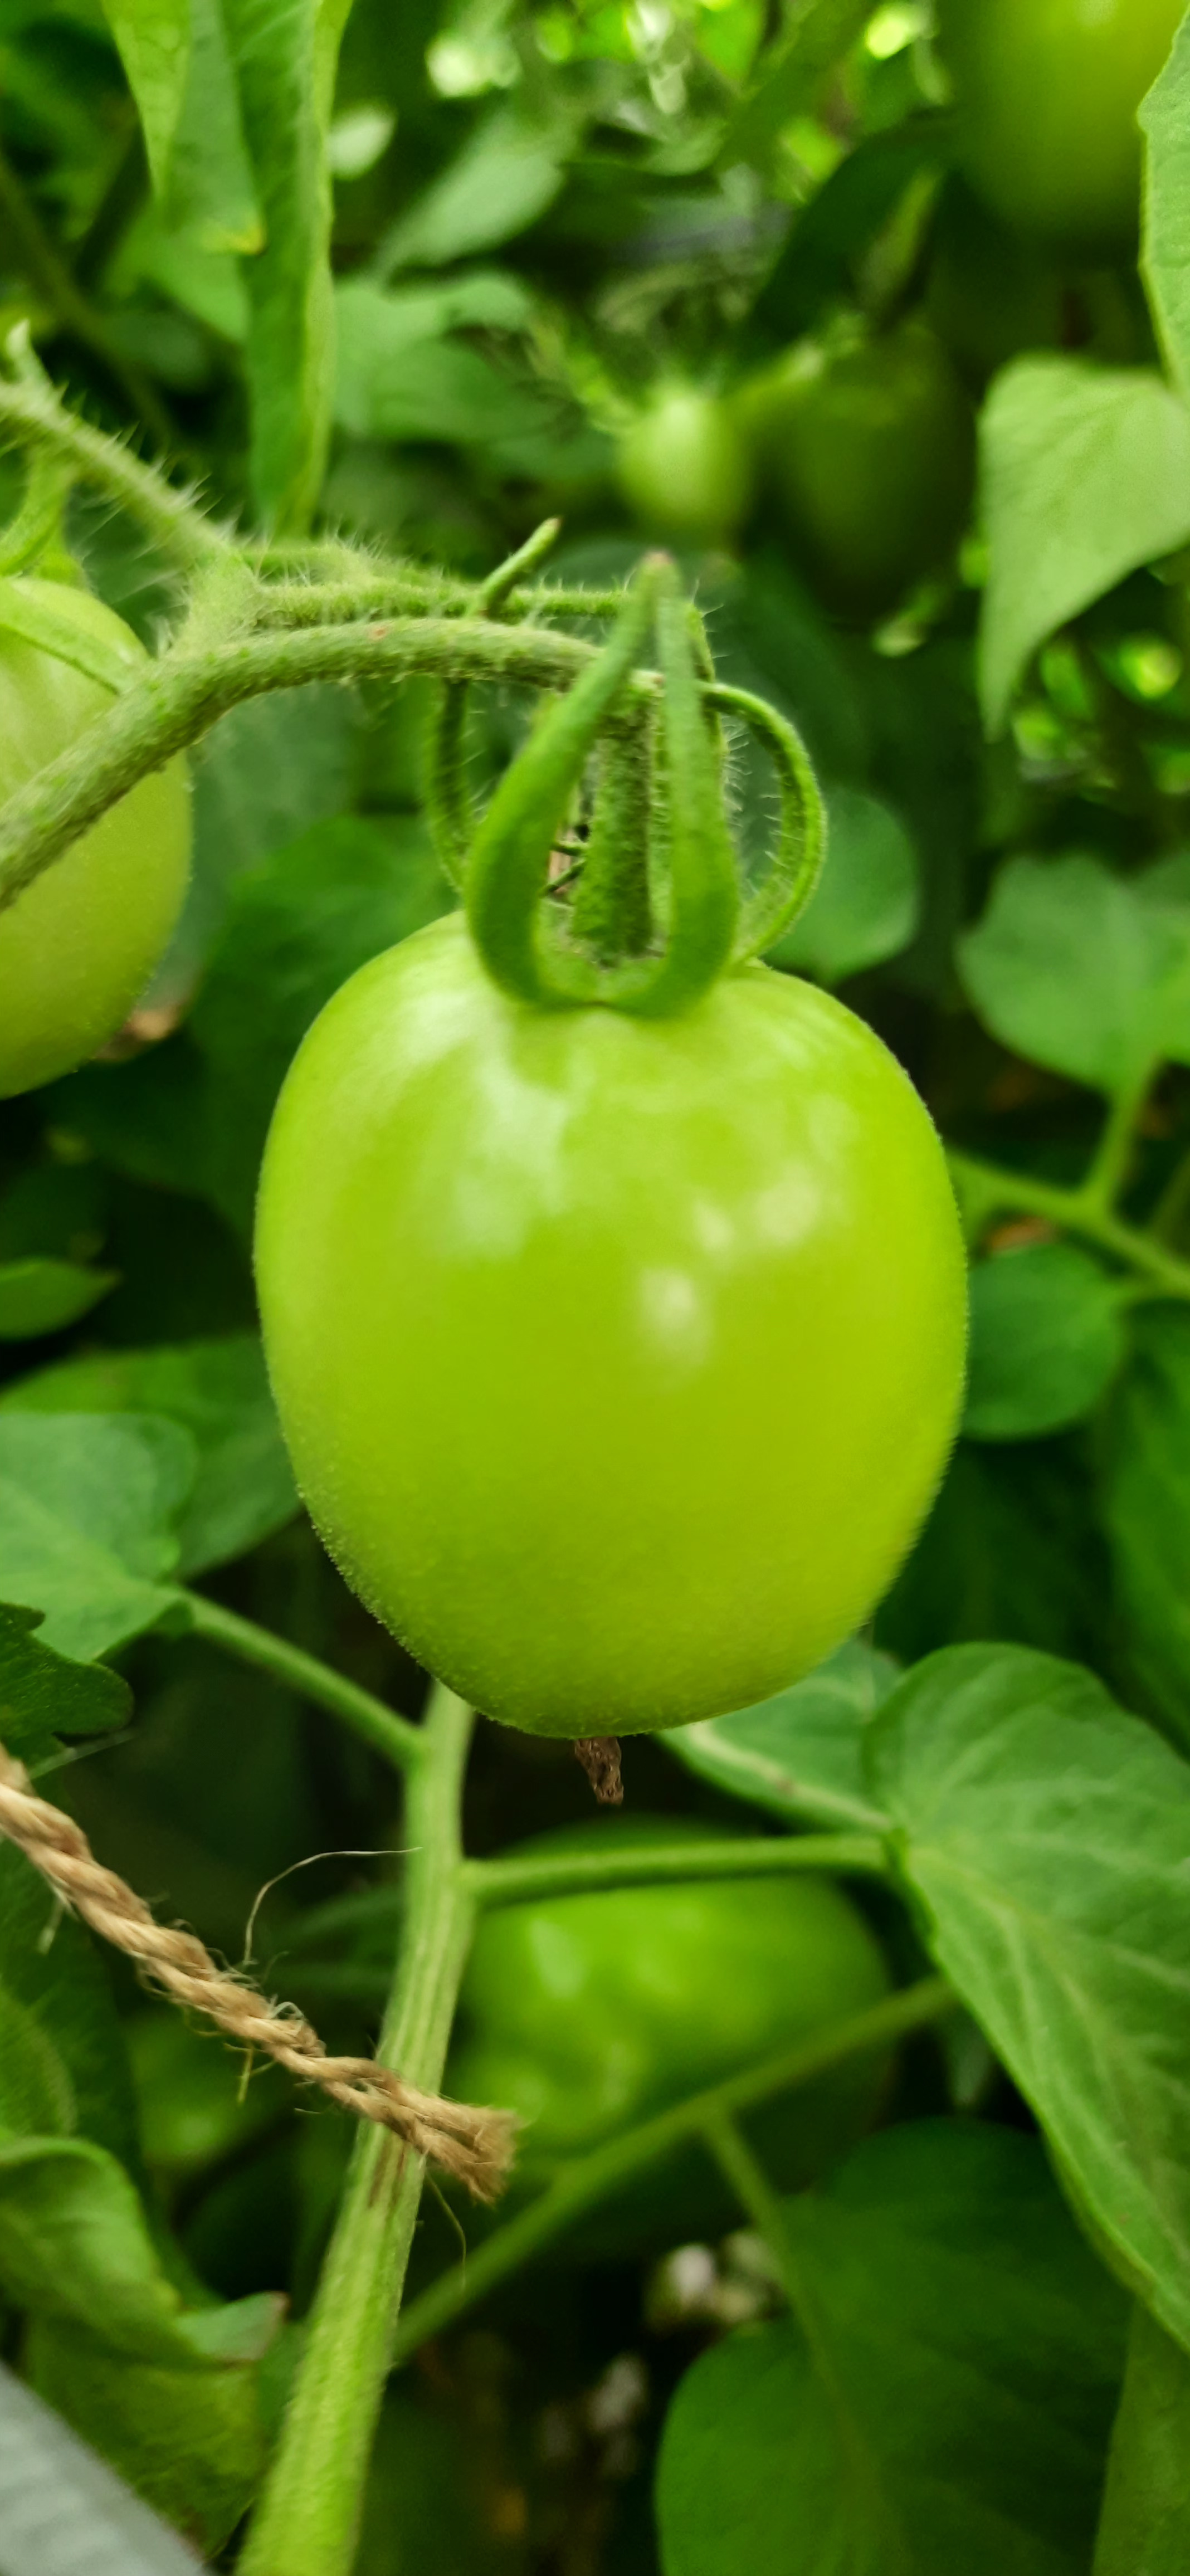raw_tomato: (273, 792, 1047, 1824)
